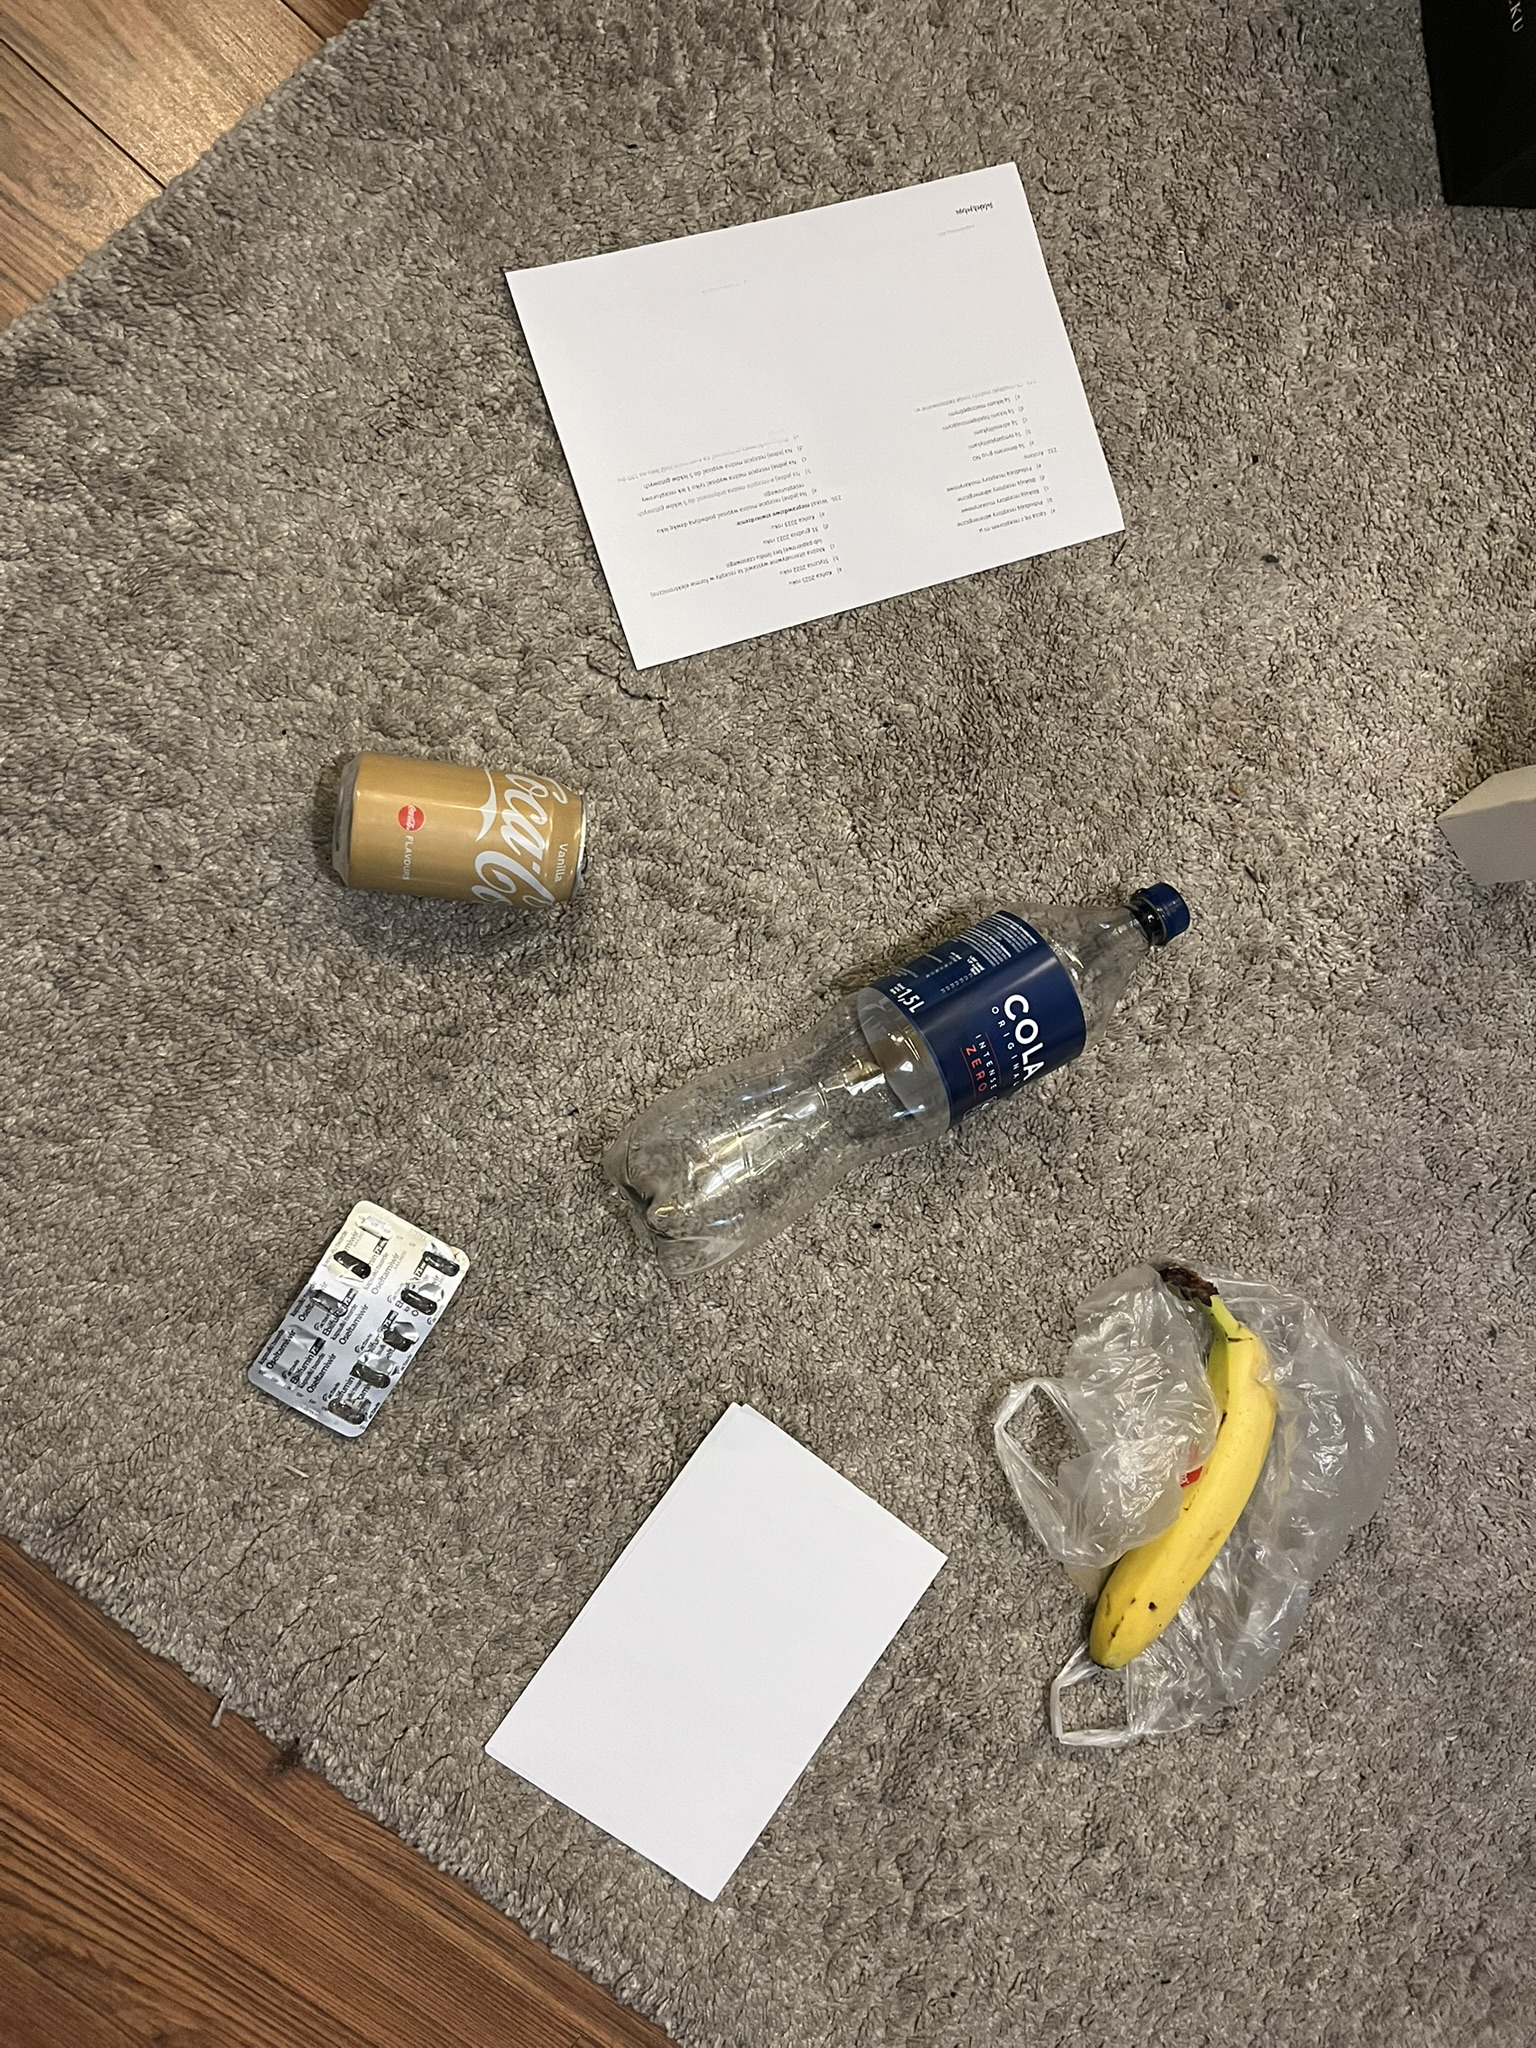BIODEGRADABLE: (1086, 1251, 1296, 1669)
METAL: (1133, 795, 1331, 1474), (310, 731, 608, 918), (350, 1185, 513, 1424)
PAPER: (466, 268, 1084, 703), (724, 1363, 1039, 1827)
PLASTIC: (1005, 1214, 1438, 1779)
